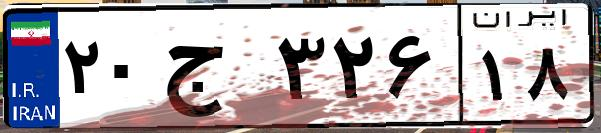0: (110, 28, 158, 98)
1: (475, 38, 525, 113)
2: (330, 28, 385, 110), (57, 26, 110, 100)
3: (270, 28, 330, 110)
6: (385, 28, 445, 110)
8: (525, 38, 570, 115)
ج: (158, 20, 270, 120)
